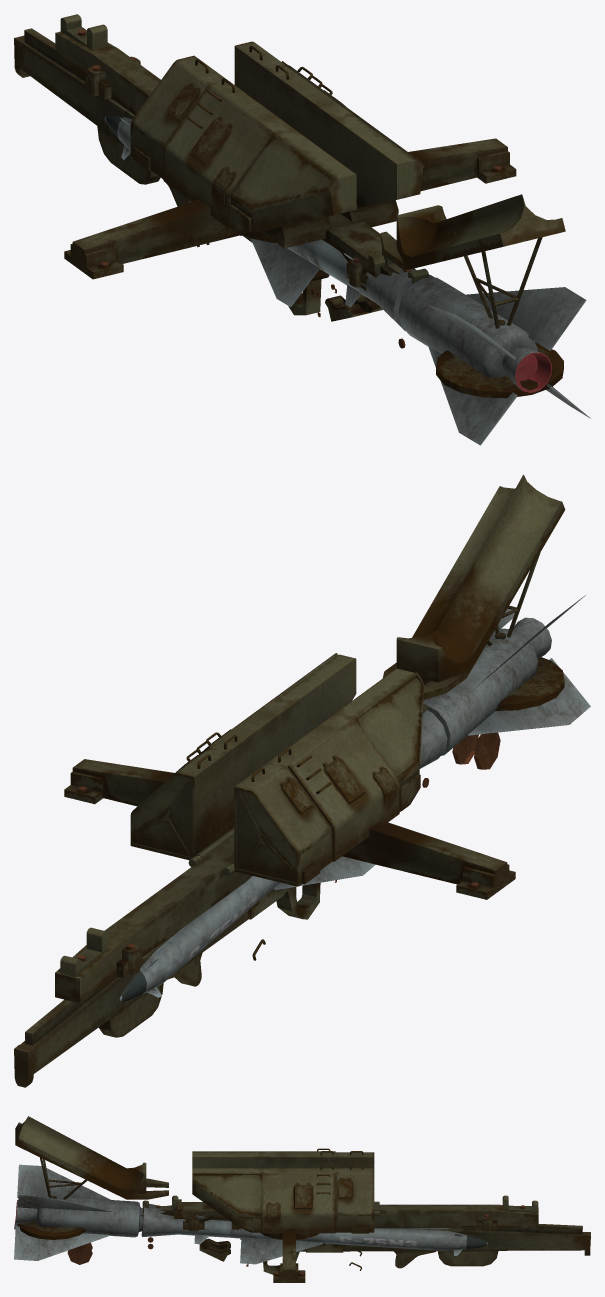
3 views of the same model, one above another, from view 1: azimuth 30°, elevation 25°; view 2: azimuth 150°, elevation 25°; view 3: azimuth 270°, elevation 25° (orthographic). The views are drawn at different scales.
Parts seen in each view (by area): view 1: turret|part2, body|base2, body|part7, booster|rocket2, booster|wings4 (×2), cradle|part1, body|base1, body|detail5, missile|wings2, turret|part4, turret|detail2.002, turret|part5 (+7 smaller); view 2: turret|part2, body|part7, body|base2, cradle|part1, body|base1, booster|rocket2, missile|rocket1, booster|wings4, turret|detail2.002, body|detail5, booster|bolt, body|detail7 (+2 smaller); view 3: turret|part2, cradle|part1, body|part7, booster|wings4 (×2), body|base1, missile|rocket1, booster|rocket2, missile|wings2, turret|detail2, body|base2, booster|rocket1, body|detail5 (+7 smaller).
Part boxes in pixels (<box>): turret|part2: <box>130,41,424,235</box>; body|base2: <box>64,138,516,279</box>; body|part7: <box>380,194,565,270</box>; booster|rocket2: <box>398,277,539,390</box>; booster|wings4 (×2): <box>427,287,590,445</box>; cradle|part1: <box>14,28,329,315</box>; body|base1: <box>55,31,416,275</box>; body|detail5: <box>436,319,563,398</box>; missile|wings2: <box>250,238,319,306</box>; turret|part4: <box>263,200,398,248</box>; turret|detail2.002: <box>167,83,235,203</box>; turret|part5: <box>325,221,385,277</box>; turret|part2: <box>130,653,423,886</box>; body|part7: <box>382,474,565,699</box>; body|base2: <box>64,759,515,899</box>; cradle|part1: <box>14,882,320,1087</box>; body|base1: <box>55,836,252,1003</box>; booster|rocket2: <box>423,617,551,755</box>; missile|rocket1: <box>140,876,279,994</box>; booster|wings4: <box>468,658,590,735</box>; turret|detail2.002: <box>281,755,396,814</box>; body|detail5: <box>495,632,564,710</box>; booster|bolt: <box>422,732,500,787</box>; body|detail7: <box>60,704,428,977</box>; turret|part2: <box>192,1151,374,1233</box>; cradle|part1: <box>263,1224,590,1274</box>; body|part7: <box>15,1116,168,1199</box>; booster|wings4 (×2): <box>14,1164,112,1260</box>; body|base1: <box>141,1204,538,1235</box>; missile|rocket1: <box>178,1219,466,1250</box>; booster|rocket2: <box>15,1196,143,1237</box>; missile|wings2: <box>240,1237,322,1264</box>; turret|detail2: <box>266,1178,352,1221</box>; body|base2: <box>273,1229,305,1282</box>; booster|rocket1: <box>141,1203,179,1237</box>; body|detail5: <box>17,1196,85,1239</box>.
Bounding box in the file's own units: 5.44 × 3.46 × 11.45.
Materials: 46 (46 with a texture image).
